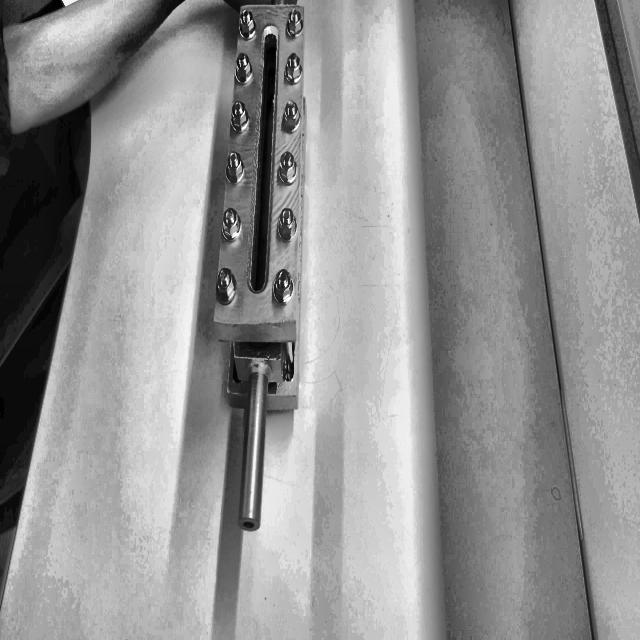ShuiWeiQi_12: (208, 1, 327, 542)
